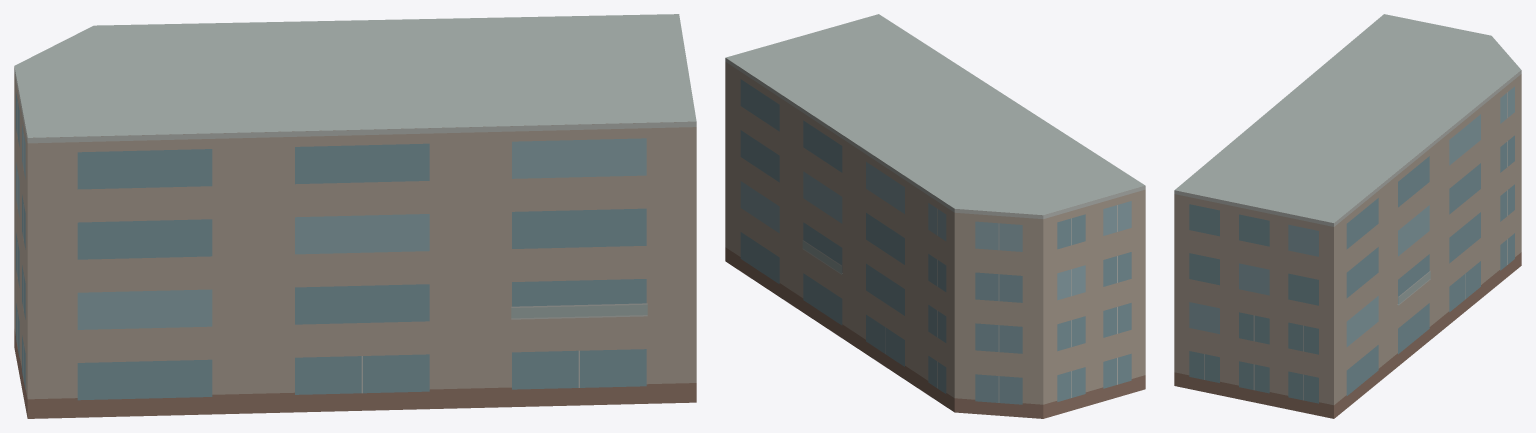
File: survey-upis-32845260.glb
3 views of the same model, side by side, from view 1: azimuth 30°, elevation 25°; view 2: azimuth 150°, elevation 25°; view 3: azimuth 270°, elevation 25° (orthographic). The views are drawn at different scales.
Visible parts, largest first — view 1: survey-upis-32845260.tmp; view 2: survey-upis-32845260.tmp; view 3: survey-upis-32845260.tmp.
Part boxes in pixels (left/top/right/bottom): survey-upis-32845260.tmp: left=14, top=14, right=696, bottom=418; survey-upis-32845260.tmp: left=725, top=14, right=1145, bottom=418; survey-upis-32845260.tmp: left=1174, top=14, right=1521, bottom=418.
Bounding box in the file's own units: 28.67 × 12.5 × 20.1.
